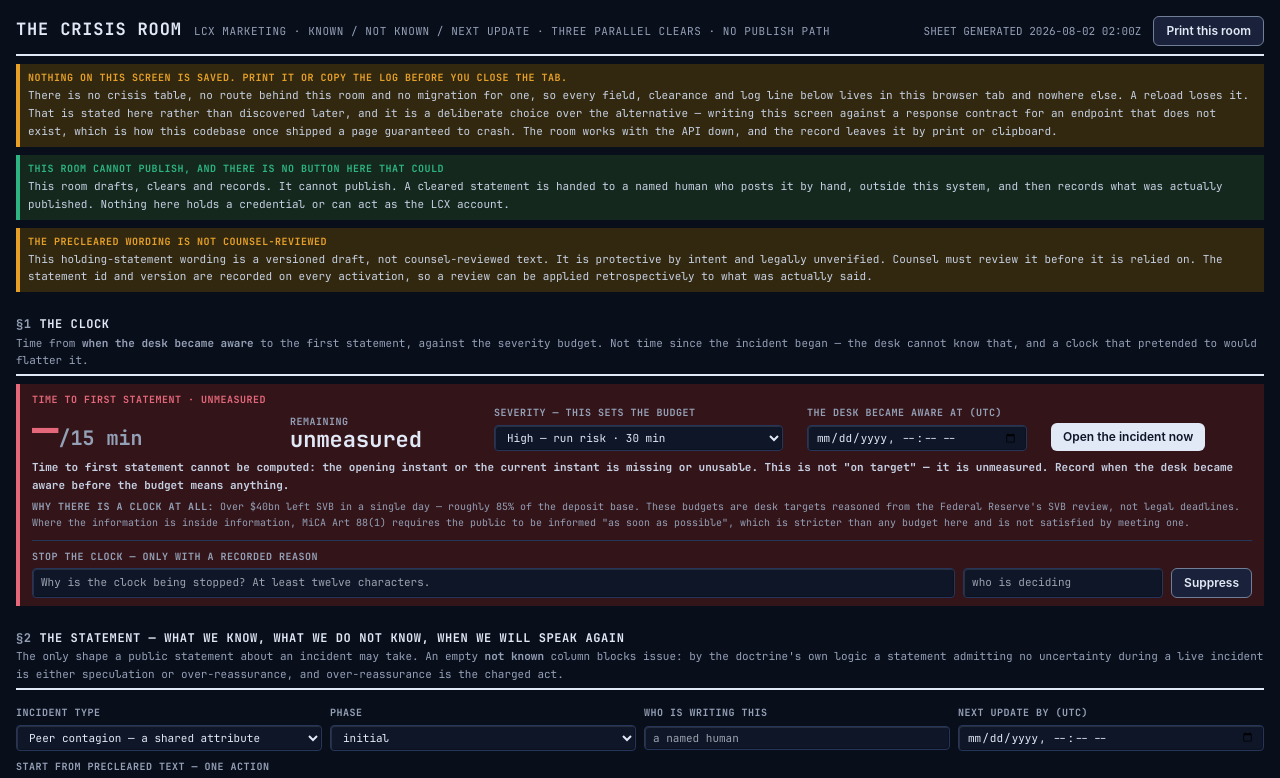
Test: the clock › goes OVERDUE, loudly, once the budget is spent
Click the button "Open the incident now" at [1128, 437], box [1051,423,1205,451]
Wait 960000 ms
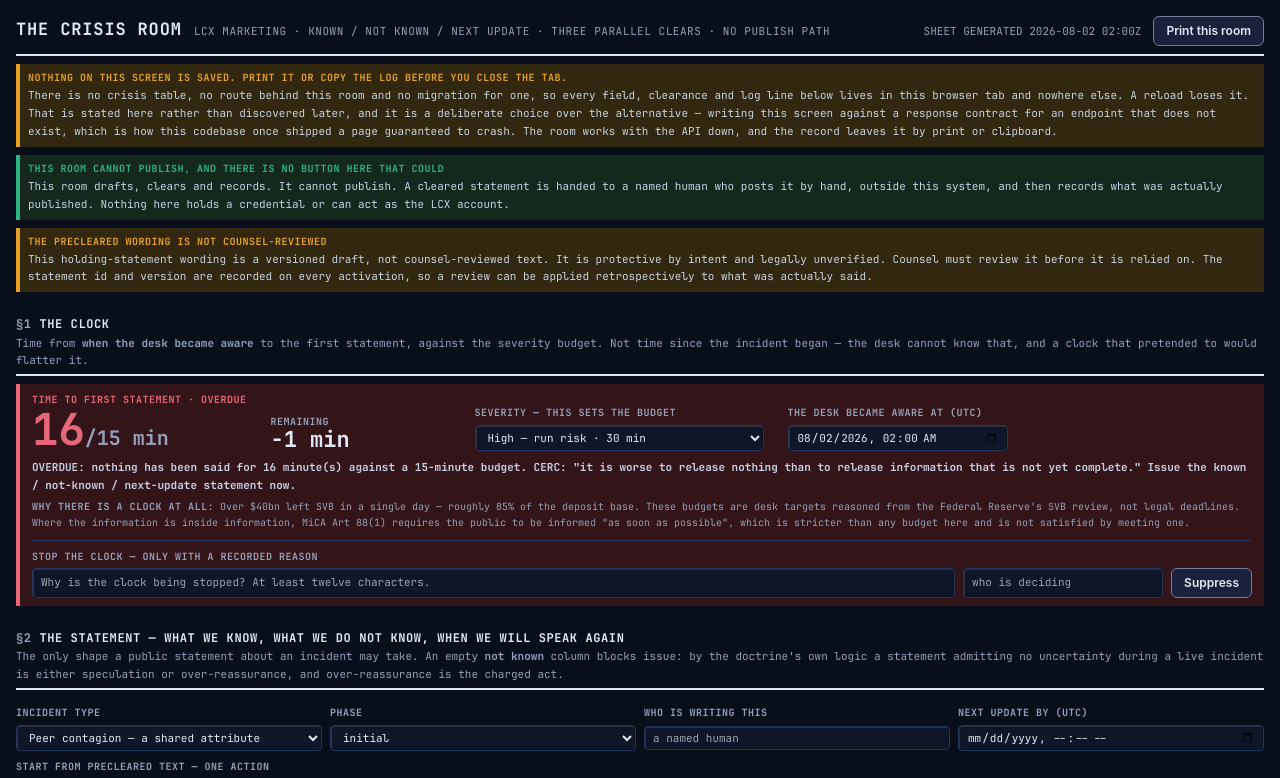
Check: the text with test id "clock-sentence" shows "OVERDUE", box [32,460,1246,492]
